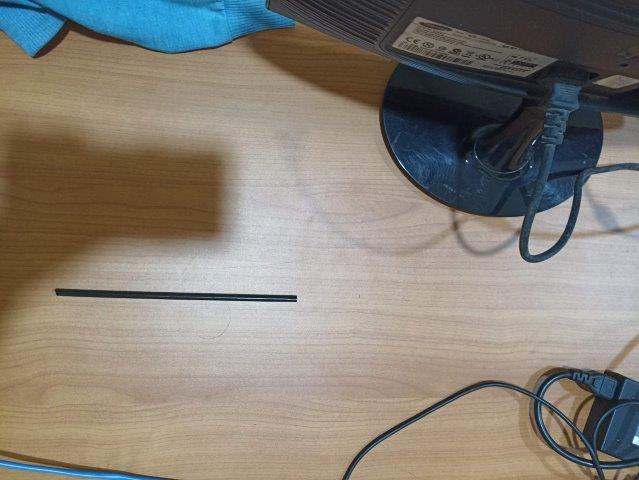sedotan: (55, 288, 297, 302)
